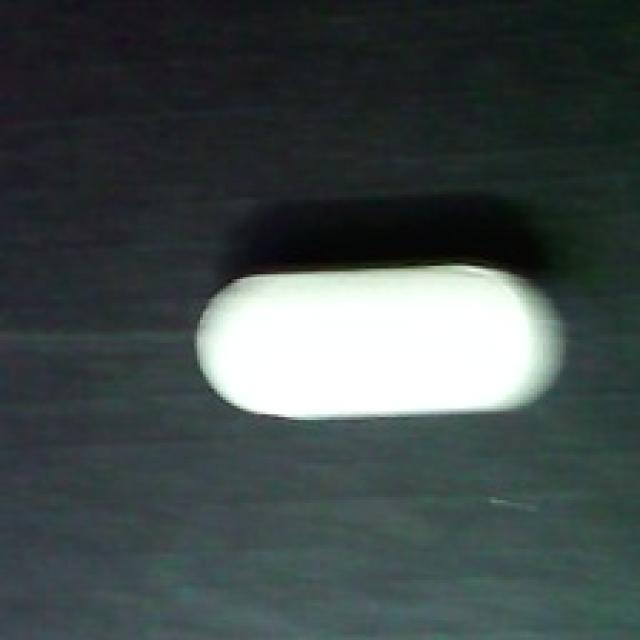no-defect: (189, 257, 569, 434)
